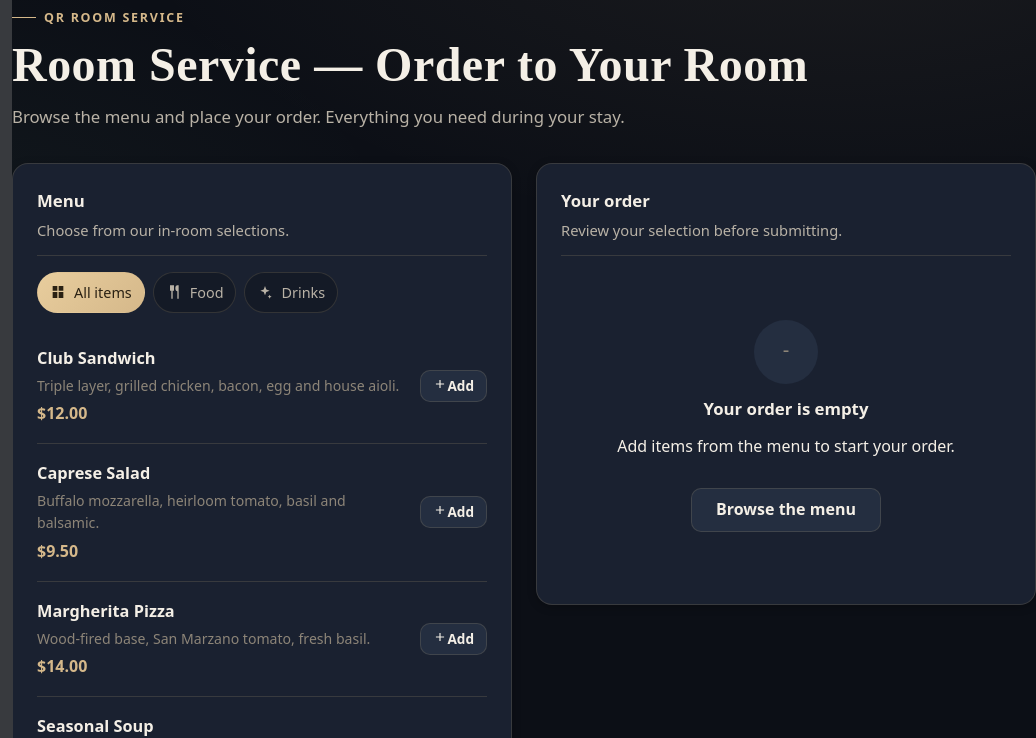
QRRoomServiceView › increments the quantity with the cart stepper
The width and height of the screenshot is (1036, 738).
Click the button "Add" below "Margherita Pizza": click(454, 639) [420,623,487,655]
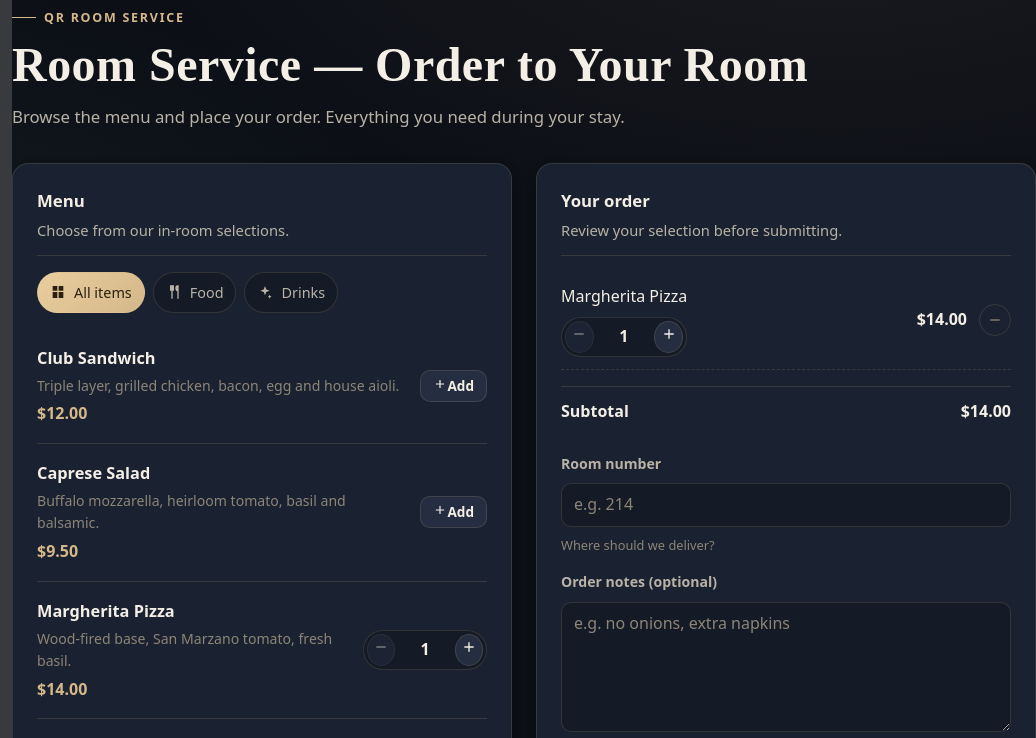
expect the 1st number field named "Quantity of Margherita Pizza" holds "1": met, box [602,323,646,351]
Click the 1st button named "Increase quantity of Margherita Pizza": click(669, 337) [654,321,683,353]
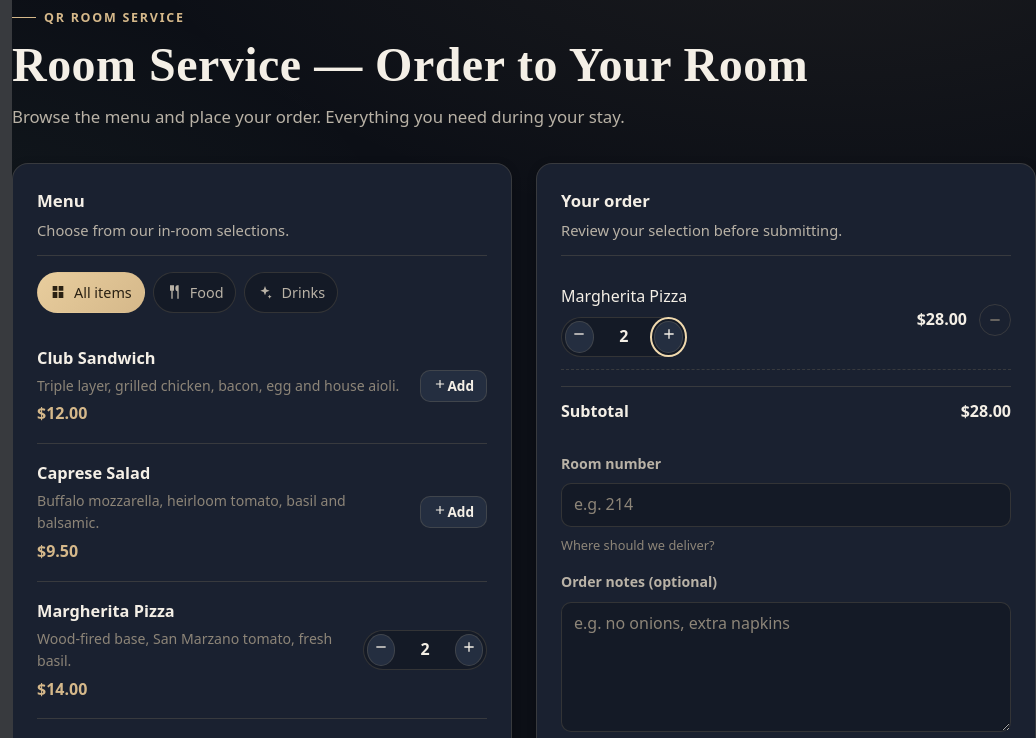
expect the 1st number field named "Quantity of Margherita Pizza" holds "2": met, box [602,323,646,351]
expect the text "$28.00" in the row of "Subtotal" is shown: met, box [961,400,1011,422]
